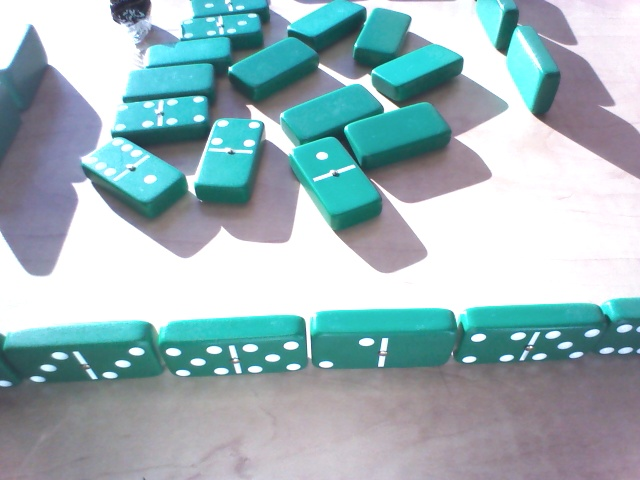A: (341, 100, 464, 173), (280, 78, 383, 141), (371, 38, 469, 104), (227, 35, 322, 100), (286, 1, 362, 51), (121, 63, 223, 99), (358, 4, 413, 64), (141, 37, 236, 67)
B: (279, 136, 383, 234), (74, 134, 184, 218), (191, 115, 267, 207), (107, 99, 211, 137), (171, 11, 264, 50), (187, 1, 275, 22)
C: (1, 25, 50, 106), (1, 87, 17, 174)
D: (502, 26, 568, 126), (475, 1, 520, 54)
E: (455, 296, 599, 374), (2, 327, 165, 394), (158, 315, 309, 381), (309, 309, 455, 374), (594, 283, 640, 367)
